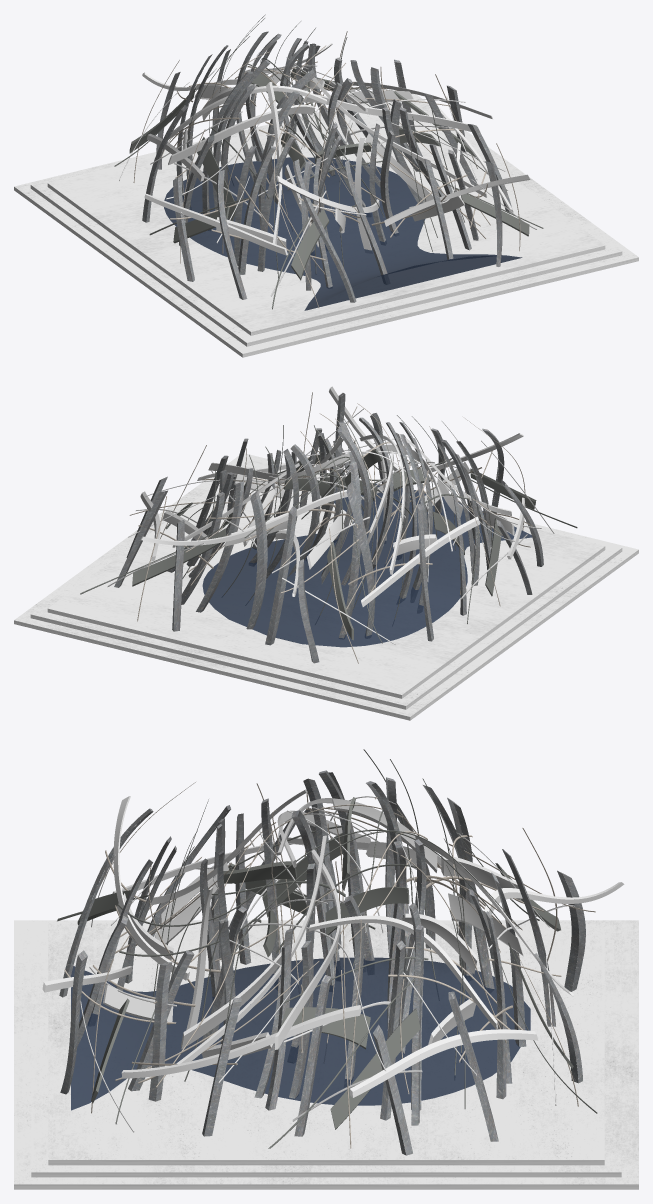
3 renders of one model, top to bottom at view 1: azimuth 30°, elevation 25°; view 2: azimuth 150°, elevation 25°; view 3: azimuth 270°, elevation 25°, orthographic. The views are drawn at different scales.
Parts seen in each view (by area): view 1: Mesh_0; view 2: Mesh_0; view 3: Mesh_0.
Boxes of the visible parts, <box> form: Mesh_0: <box>14,14,638,357</box>; Mesh_0: <box>14,386,638,720</box>; Mesh_0: <box>14,749,638,1189</box>.
Size of the model in its own units: 36 by 17.38 by 36.
6 materials, 2 textured.
